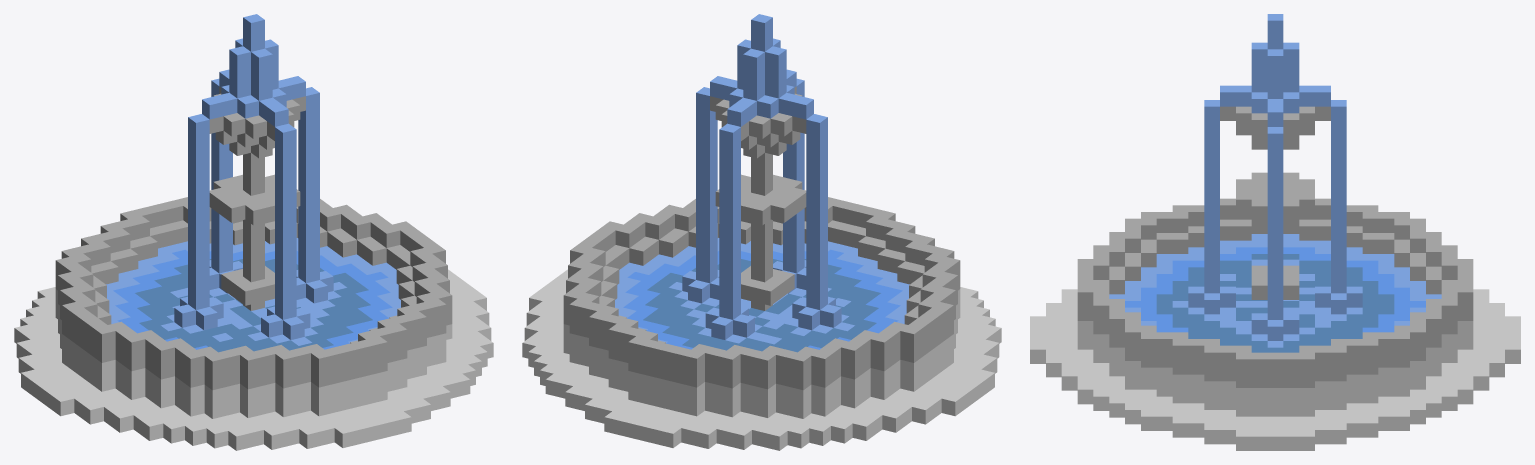
Rendered from Fountain.fbx.
The picture shows the model from 3 angles, left to right: view 1: azimuth 30°, elevation 25°; view 2: azimuth 150°, elevation 25°; view 3: azimuth 270°, elevation 25°; orthographic projection.
Bounding box in the file's own units: 3100 × 2300 × 3100.
